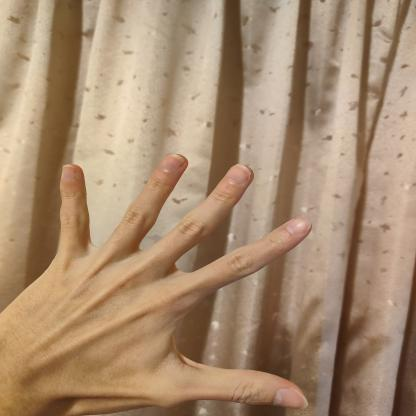bare_hand: (0, 145, 327, 415)
